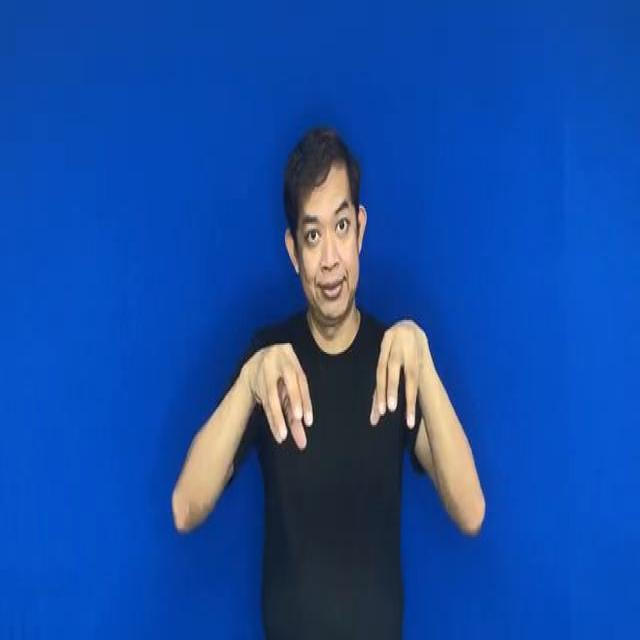egg: (244, 301, 437, 463)
